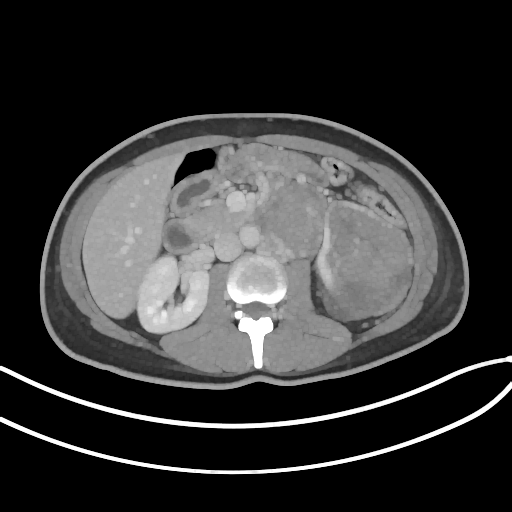Lesion: (327, 203, 414, 310)
